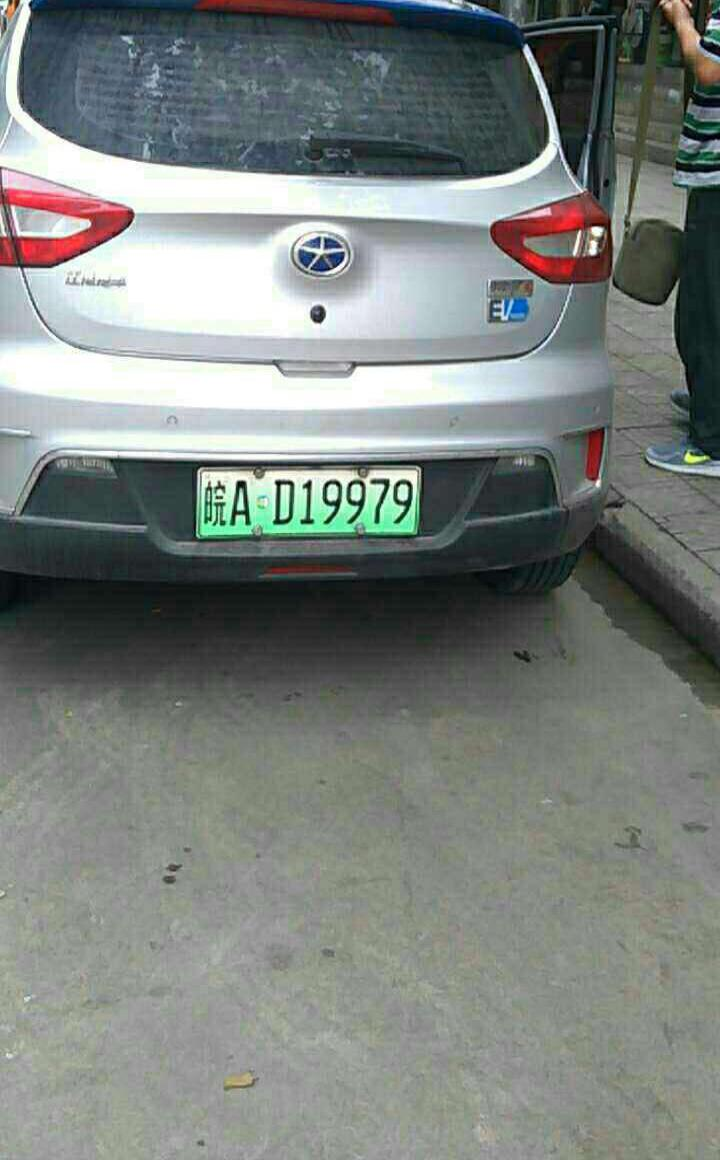car_id: (194, 467, 416, 536)
